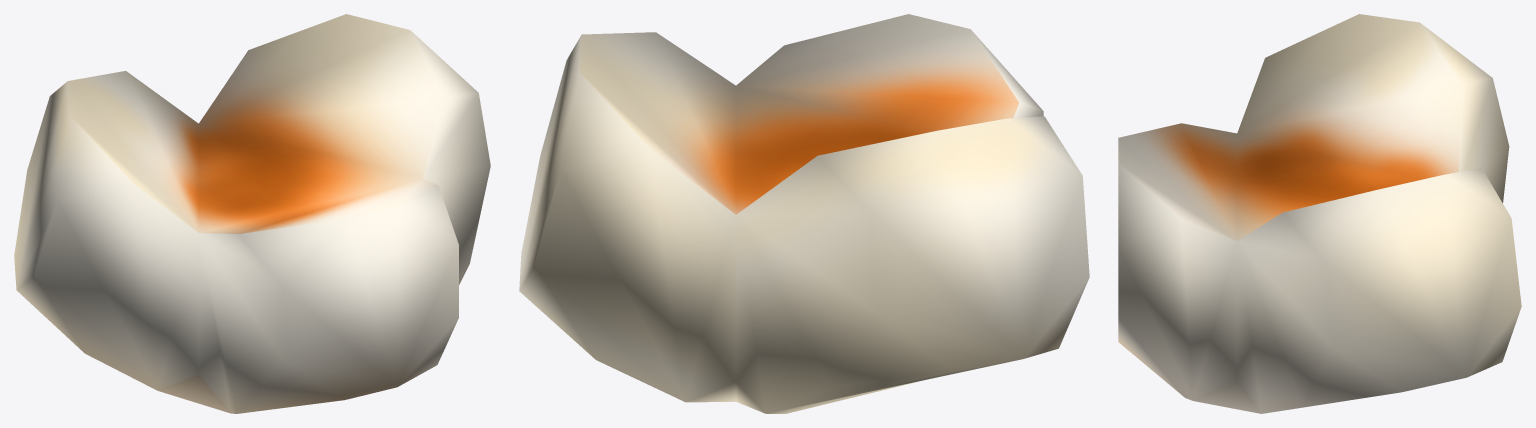
File: popcorn (1).fbx
The picture shows the model from 3 angles, left to right: view 1: azimuth 30°, elevation 25°; view 2: azimuth 150°, elevation 25°; view 3: azimuth 270°, elevation 25°; orthographic projection. The views are drawn at different scales.
Visible parts, largest first — view 1: Cylinder; view 2: Cylinder; view 3: Cylinder.
Part boxes in pixels (x1,y1,x2,y2): Cylinder: (14,14,490,413); Cylinder: (519,14,1089,413); Cylinder: (1118,14,1521,413).
Size of the model in its own units: 474 by 268 by 364.
1 material, 1 textured.
